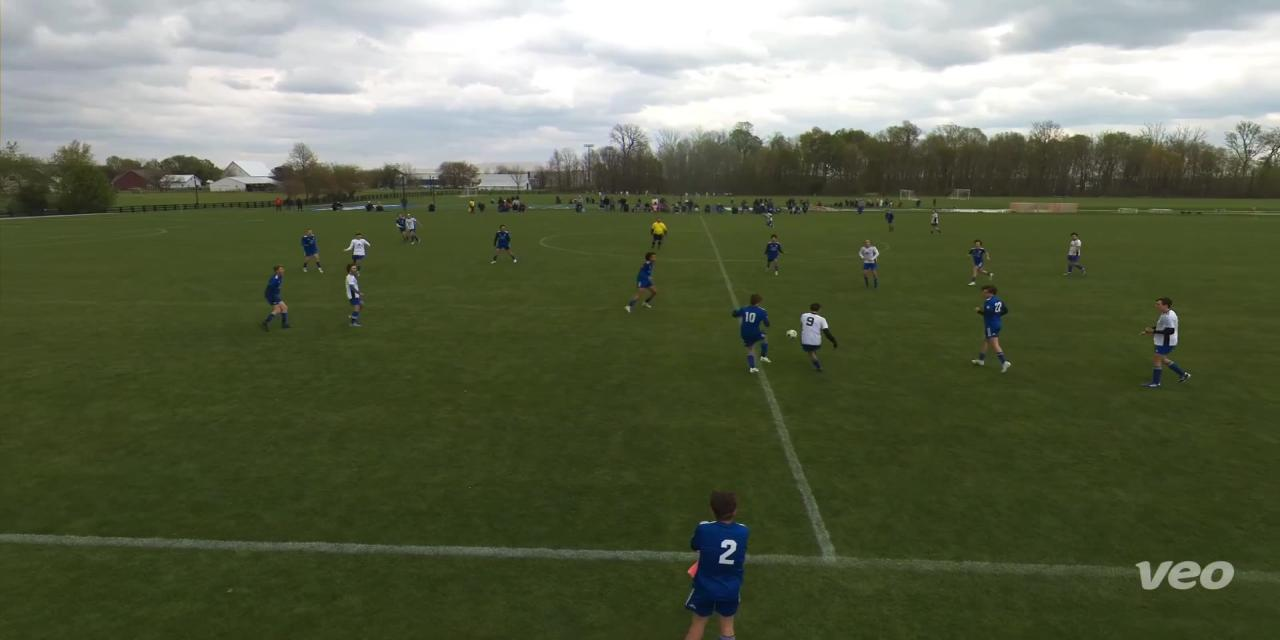sports ball: (783, 326, 805, 343)
